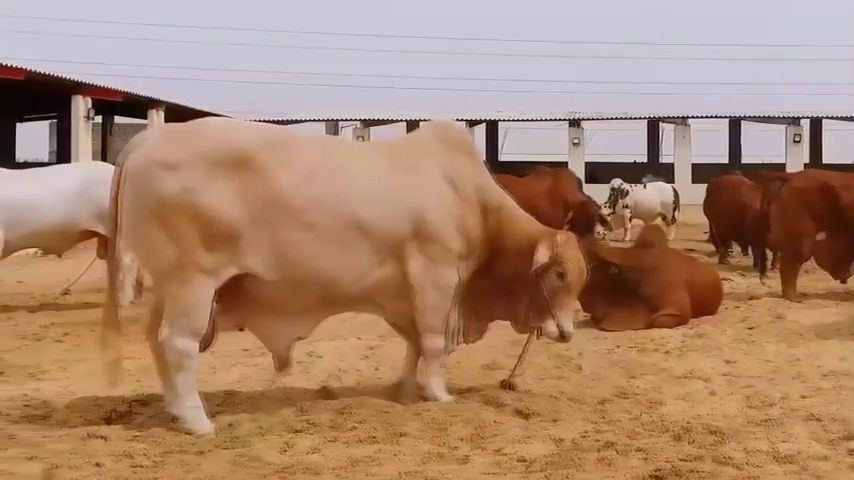bo: (102, 116, 590, 439), (4, 152, 140, 314), (574, 227, 726, 338), (745, 161, 853, 305), (484, 152, 607, 242), (593, 166, 695, 247), (693, 156, 768, 259)
